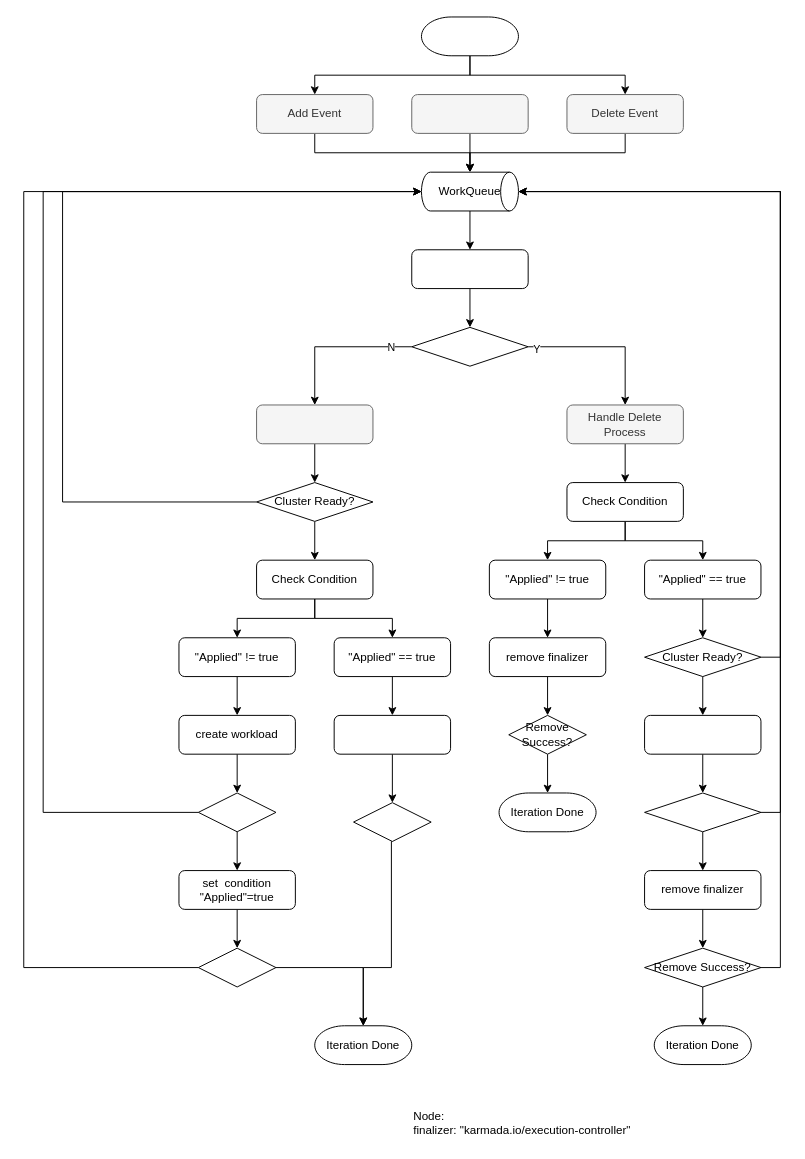
Some shapes in this 805 by 1159 pixel diagram are drawn without their labels. The shapes that lost their labels are listed below. From the top down, each one's centre as x and y in pixels, then its label:
At point (469, 36): "Informer".
At point (469, 113): "Update Event".
At point (469, 269): "Iterate Item".
At point (469, 346): "Deleting?".
At point (314, 424): "Handle Reconcile Process".
At point (392, 734): "update workload".
At point (702, 734): "delete workload from member cluster".
At point (236, 812): "create success".
At point (392, 821): "update success".
At point (702, 812): "Delete Success?".
At point (236, 967): "set condition success".
